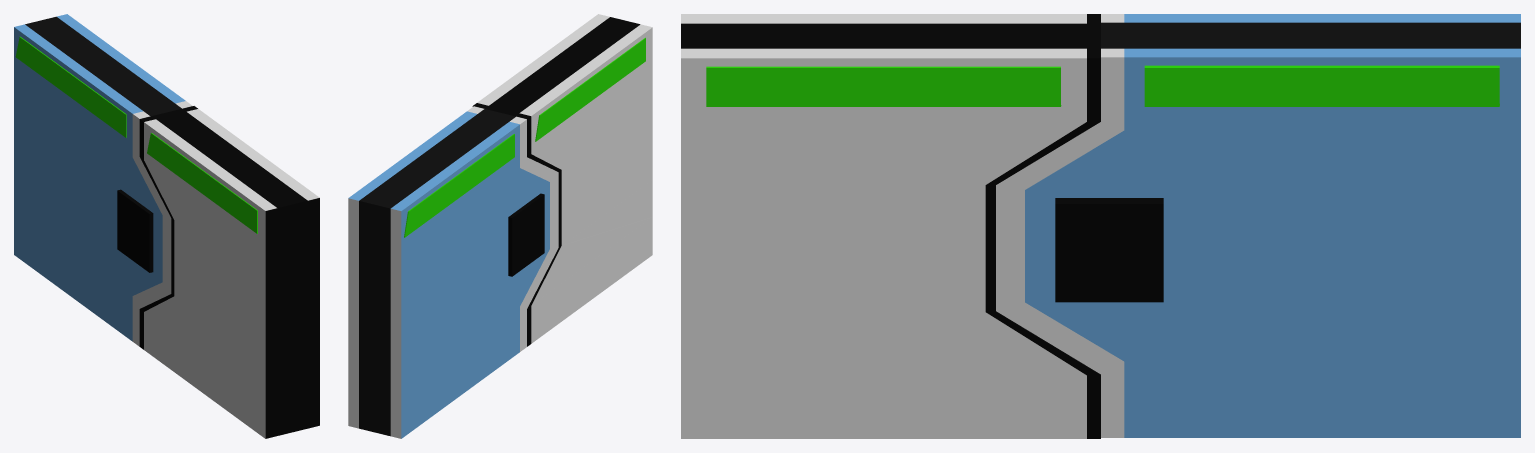
The model's file is M_Door.fbx.
3 renders of one model, left to right at view 1: azimuth 30°, elevation 25°; view 2: azimuth 150°, elevation 25°; view 3: azimuth 270°, elevation 25°, orthographic. The views are drawn at different scales.
Parts seen in each view (by area): view 1: l_door, r_door, r_lamp, l_lamp, lock; view 2: r_door, l_door, r_lamp, l_lamp, lock; view 3: r_door, l_door, r_lamp, l_lamp, lock.
Part boxes in pixels (box(x1,y1,x2,y2)): l_door: box(139, 106, 319, 438); r_door: box(14, 14, 192, 346); r_lamp: box(15, 36, 126, 137); l_lamp: box(147, 133, 257, 233); lock: box(117, 189, 153, 272); r_door: box(348, 106, 558, 438); l_door: box(472, 14, 652, 346); r_lamp: box(404, 134, 514, 237); l_lamp: box(535, 37, 645, 141); lock: box(508, 193, 544, 276); r_door: box(996, 14, 1520, 437); l_door: box(681, 14, 1100, 438); r_lamp: box(1144, 65, 1499, 106); l_lamp: box(706, 66, 1061, 106); lock: box(1055, 198, 1163, 302).
Size of the model in its own units: 0.5903 by 2 by 4.
